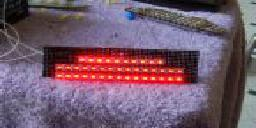LED: (53, 55, 186, 86)
